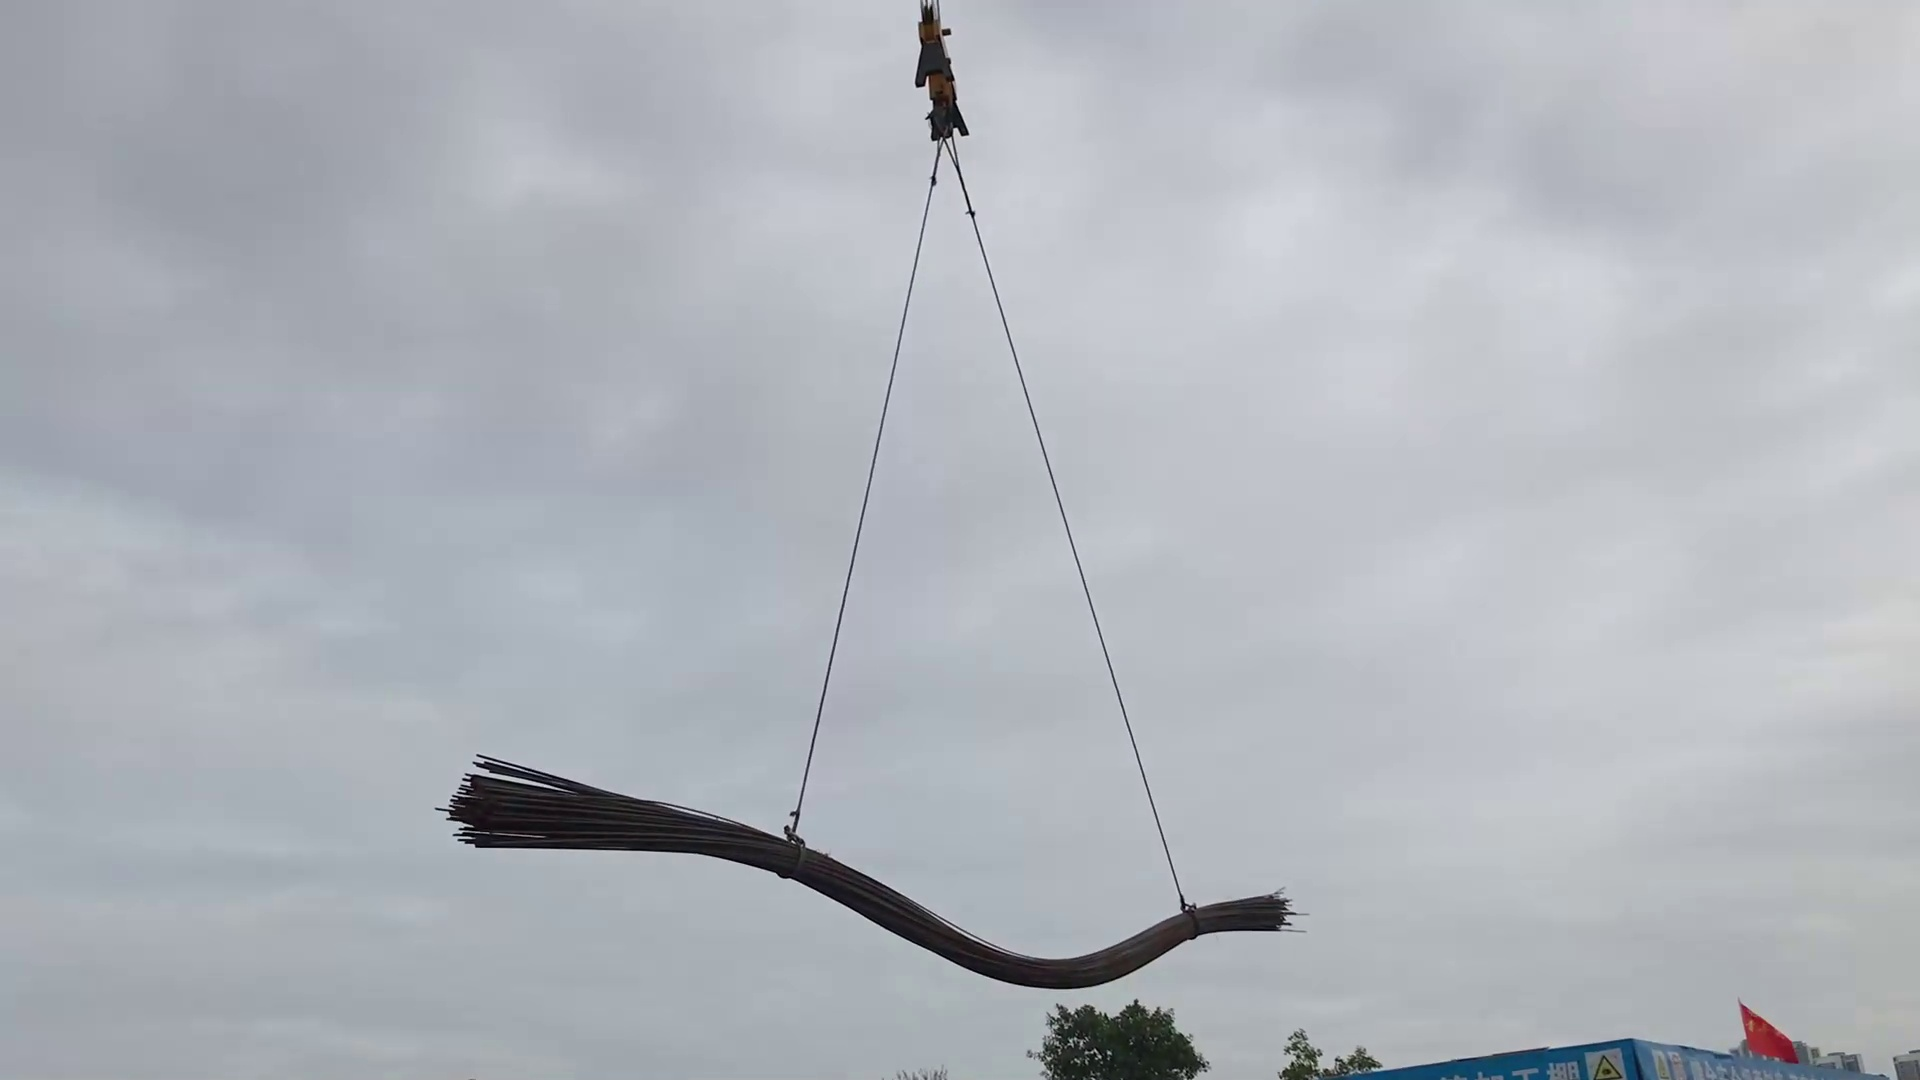hook: (916, 1, 964, 146)
rebar: (407, 727, 1389, 1007)
